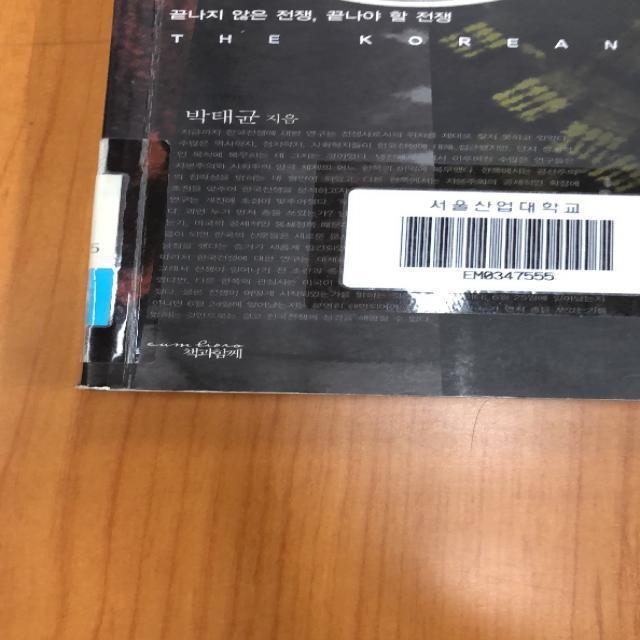Wornout: (70, 383, 393, 400), (439, 387, 534, 402)
